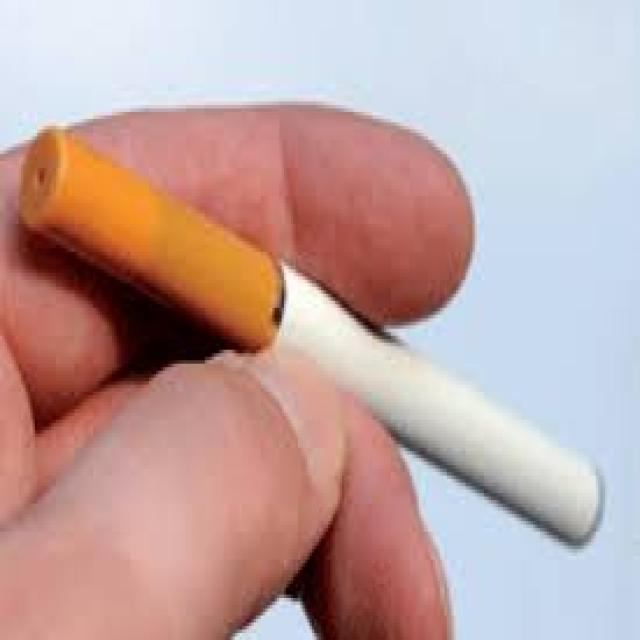Cigarette: (18, 125, 601, 549)
Hand: (2, 95, 477, 632)
